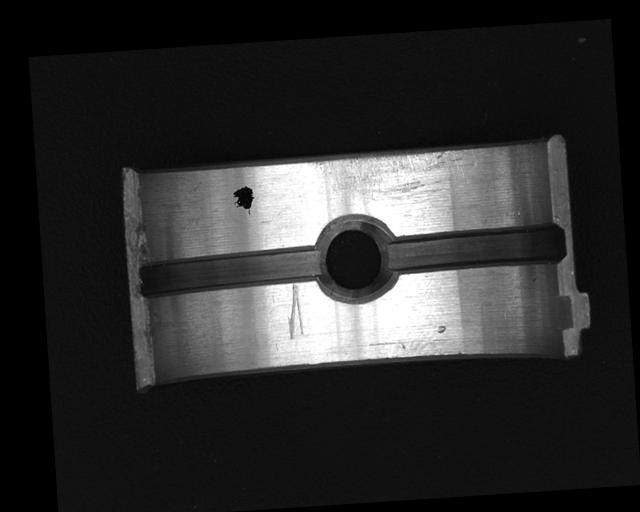blot: (230, 183, 256, 217)
bruise: (436, 324, 446, 334)
gap: (132, 243, 327, 303), (382, 223, 567, 278)
hole: (315, 214, 397, 303)
nick: (283, 282, 305, 340)
scratch: (306, 145, 481, 208)
